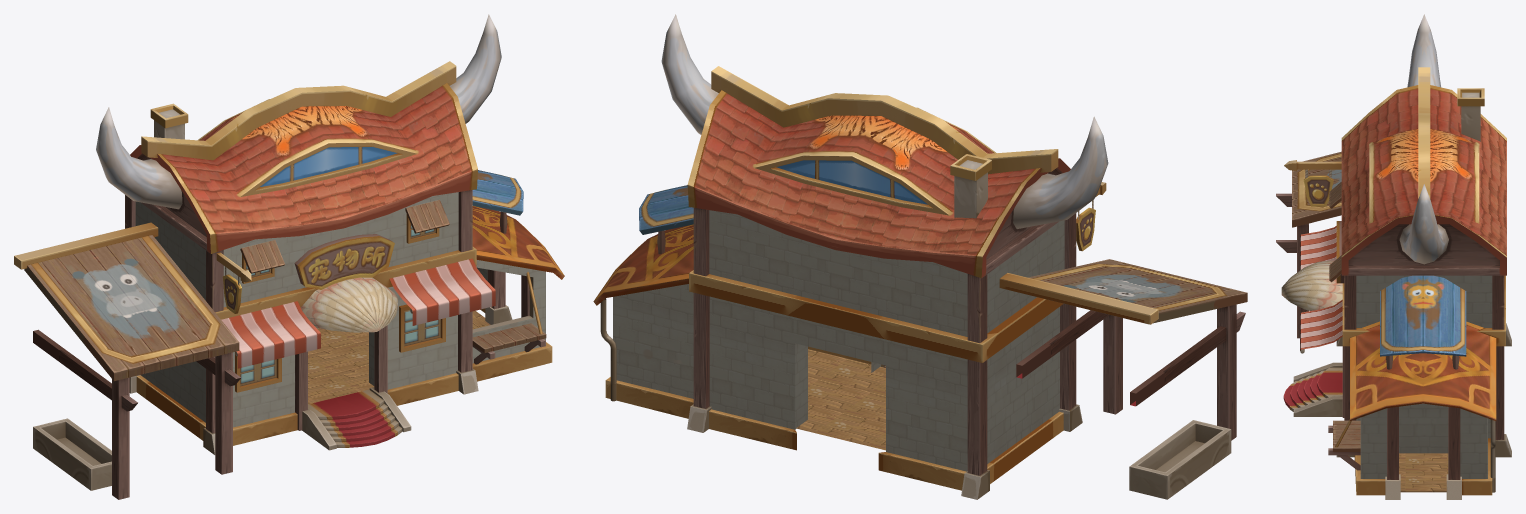
The model's file is zhucheng_chongwudian.FBX.
3 views of the same model, side by side, from view 1: azimuth 30°, elevation 25°; view 2: azimuth 150°, elevation 25°; view 3: azimuth 270°, elevation 25° (orthographic). The views are drawn at different scales.
Visible parts, largest first — view 1: zhucheng_chongwudian; view 2: zhucheng_chongwudian; view 3: zhucheng_chongwudian.
Part boxes in pixels (x1,y1,x2,y2): zhucheng_chongwudian: [14, 14, 564, 499]; zhucheng_chongwudian: [593, 14, 1247, 499]; zhucheng_chongwudian: [1276, 14, 1511, 499].
Bounding box in the file's own units: 1246 × 797 × 568.
